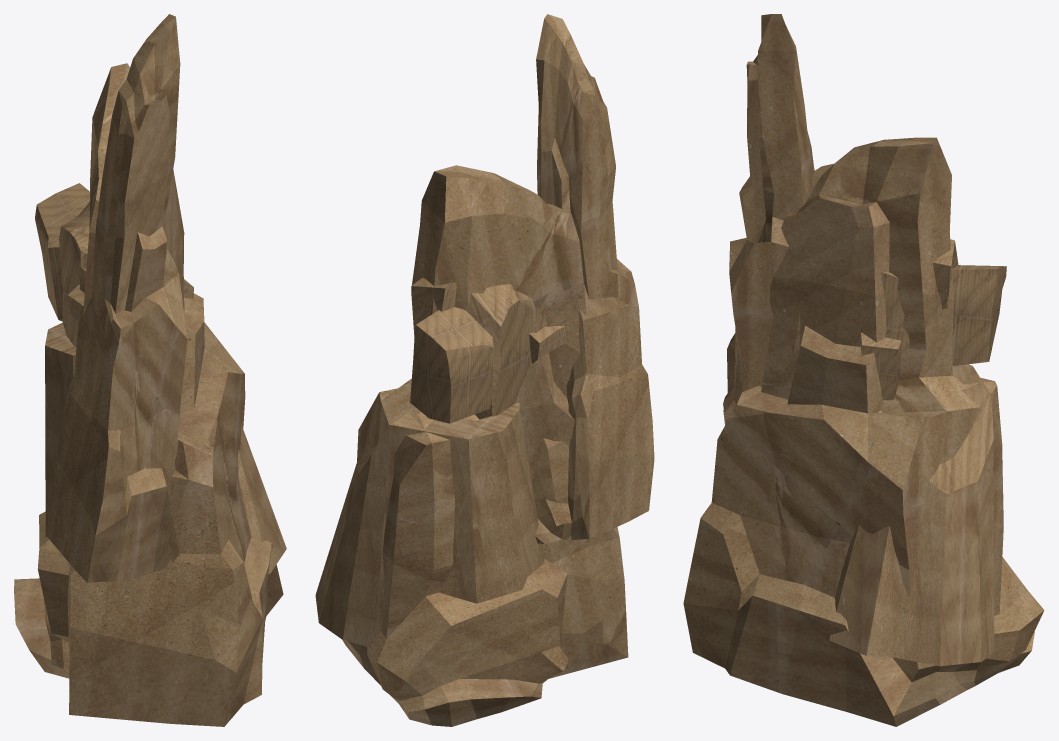
The model's file is Piedraparapintar.fbx.
3 views of the same model, side by side, from view 1: azimuth 30°, elevation 25°; view 2: azimuth 150°, elevation 25°; view 3: azimuth 270°, elevation 25° (orthographic). The views are drawn at different scales.
Visible parts, largest first — view 1: roca1_low__15_, roca1_low__16_, islaprincipaltierra_1__11_, roca2_low__5_; view 2: roca1_low__15_, roca1_low__16_, islaprincipaltierra_1__11_, roca2_low__5_; view 3: roca1_low__15_, islaprincipaltierra_1__11_, roca1_low__16_, roca2_low__5_.
Part boxes in pixels (left/top/right/bottom): roca1_low__15_: left=14, top=63, right=283, bottom=726; roca1_low__16_: left=46, top=14, right=187, bottom=582; islaprincipaltierra_1__11_: left=45, top=322, right=286, bottom=573; roca2_low__5_: left=35, top=183, right=193, bottom=346; roca1_low__15_: left=342, top=165, right=628, bottom=726; roca1_low__16_: left=532, top=14, right=654, bottom=543; islaprincipaltierra_1__11_: left=315, top=402, right=544, bottom=647; roca2_low__5_: left=410, top=277, right=565, bottom=423; roca1_low__15_: left=683, top=137, right=1044, bottom=726; islaprincipaltierra_1__11_: left=828, top=364, right=994, bottom=666; roca1_low__16_: left=723, top=14, right=814, bottom=424; roca2_low__5_: left=794, top=239, right=1006, bottom=400.
Size of the model in its own units: 4865 by 11815 by 5962.
Materials: 1 (1 with a texture image).
